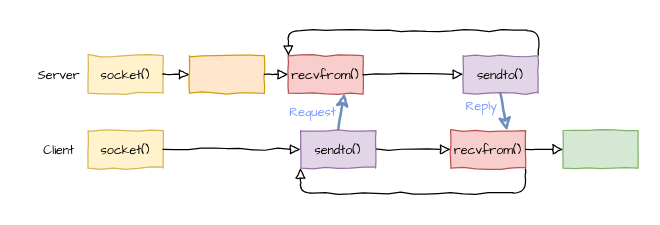
Some shapes in this 660 by 225 pixel diagram are drawn without their labels. The centre of each missing label's shape, as x and y in pixels:
"bind()" goes at [226,73].
"close()" goes at [600,148].
